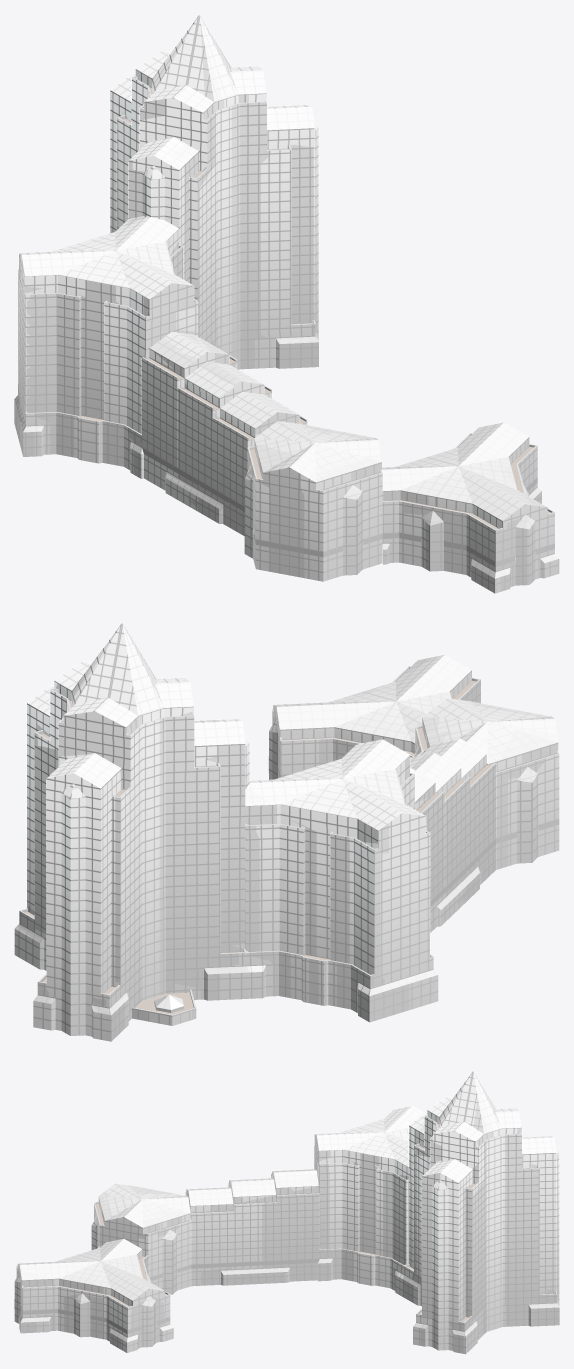
File: nurli3.glb
The picture shows the model from 3 angles, top to bottom: view 1: azimuth 30°, elevation 25°; view 2: azimuth 150°, elevation 25°; view 3: azimuth 270°, elevation 25°; orthographic projection. The views are drawn at different scales.
Visible parts, largest first — view 1: nurli-base, nurli-base-shell; view 2: nurli-base, nurli-base-shell; view 3: nurli-base, nurli-base-shell.
Boxes of the visible parts, x1=… form: nurli-base: x1=14, y1=15, x2=559, y2=593; nurli-base-shell: x1=14, y1=15, x2=558, y2=591; nurli-base: x1=14, y1=623, x2=559, y2=1041; nurli-base-shell: x1=14, y1=622, x2=559, y2=1040; nurli-base: x1=14, y1=1071, x2=559, y2=1354; nurli-base-shell: x1=14, y1=1073, x2=559, y2=1353.
Bounding box in the file's own units: 129 × 123 × 246.
4 materials, 1 textured.
